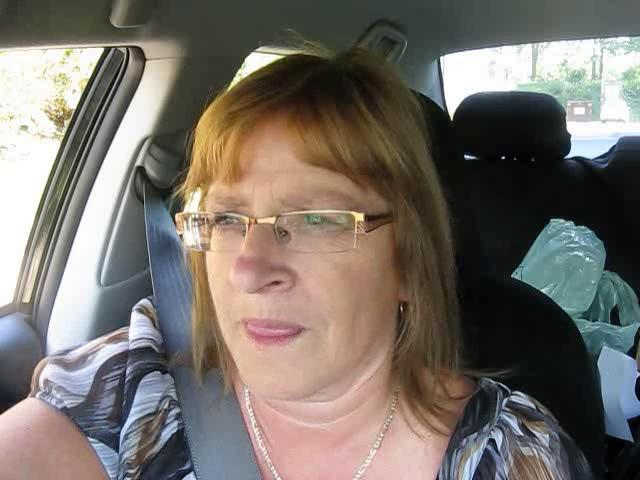close_eyeL: (198, 203, 254, 244)
close_eyeR: (275, 203, 363, 249)
no_yawn: (220, 309, 320, 361)
